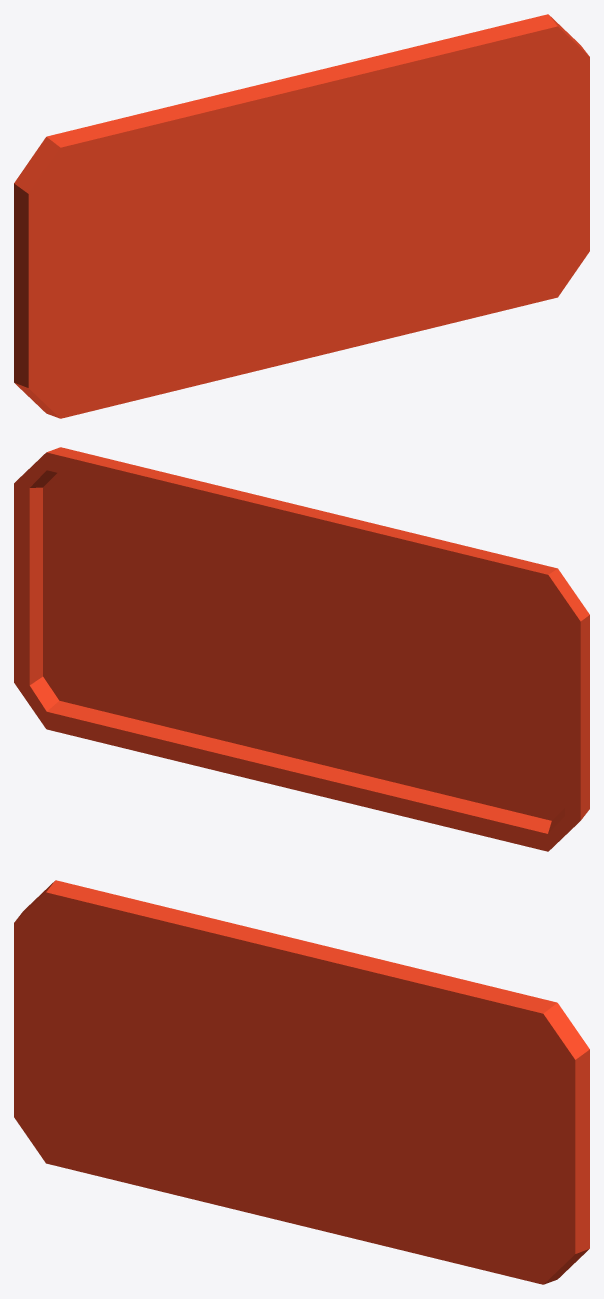
Rendered from SM_Sign_South_A_City.fbx.
The picture shows the model from 3 angles, top to bottom: view 1: azimuth 30°, elevation 25°; view 2: azimuth 150°, elevation 25°; view 3: azimuth 330°, elevation 25°; orthographic projection.
Visible parts, largest first — view 1: SM_Sign_South_A_City; view 2: SM_Sign_South_A_City; view 3: SM_Sign_South_A_City.
Part boxes in pixels (x1,y1,x2,y2): SM_Sign_South_A_City: [14, 14, 589, 418]; SM_Sign_South_A_City: [14, 447, 589, 851]; SM_Sign_South_A_City: [14, 880, 589, 1284].
Size of the model in its own units: 0.7368 by 0.3441 by 0.0269.
